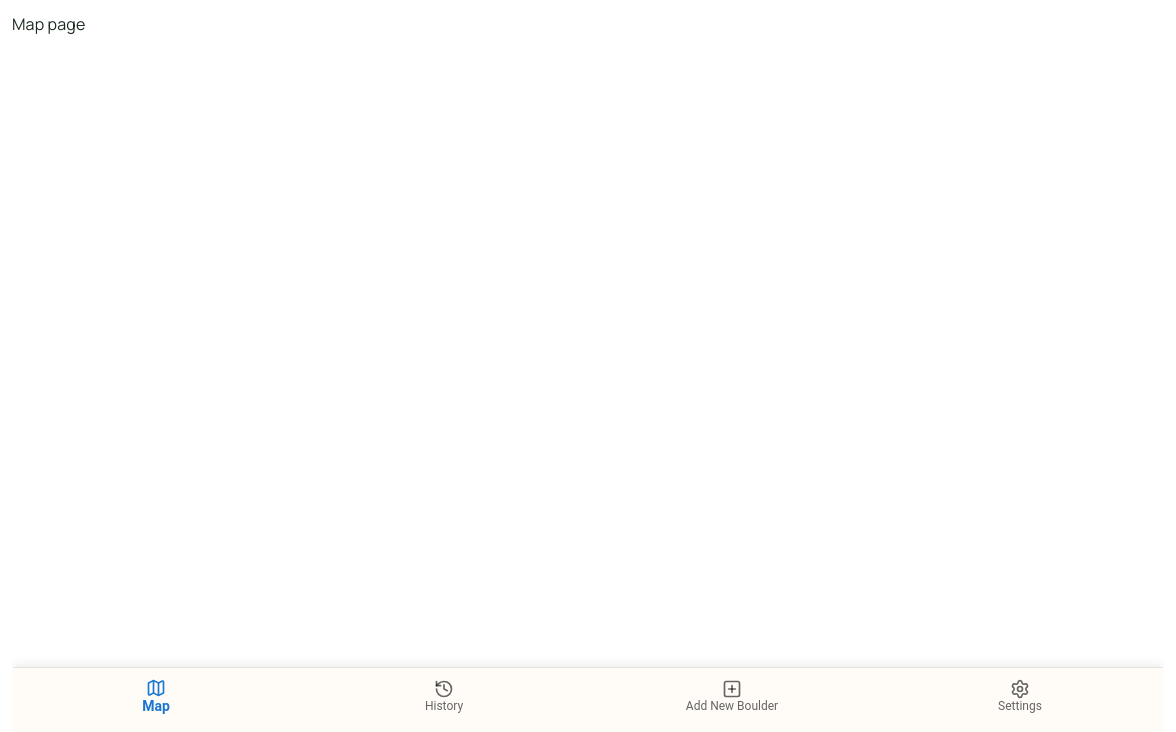
Scenario: MobileBottomNav › should navigate to the selected route when an item is clicked
Expected: the text "Map page" is shown, [12,13,85,35]
What coordinates should you click on to do the following:
click the button "History"
I would click on:
 (444, 696)
Its box is [300,668,588,724].
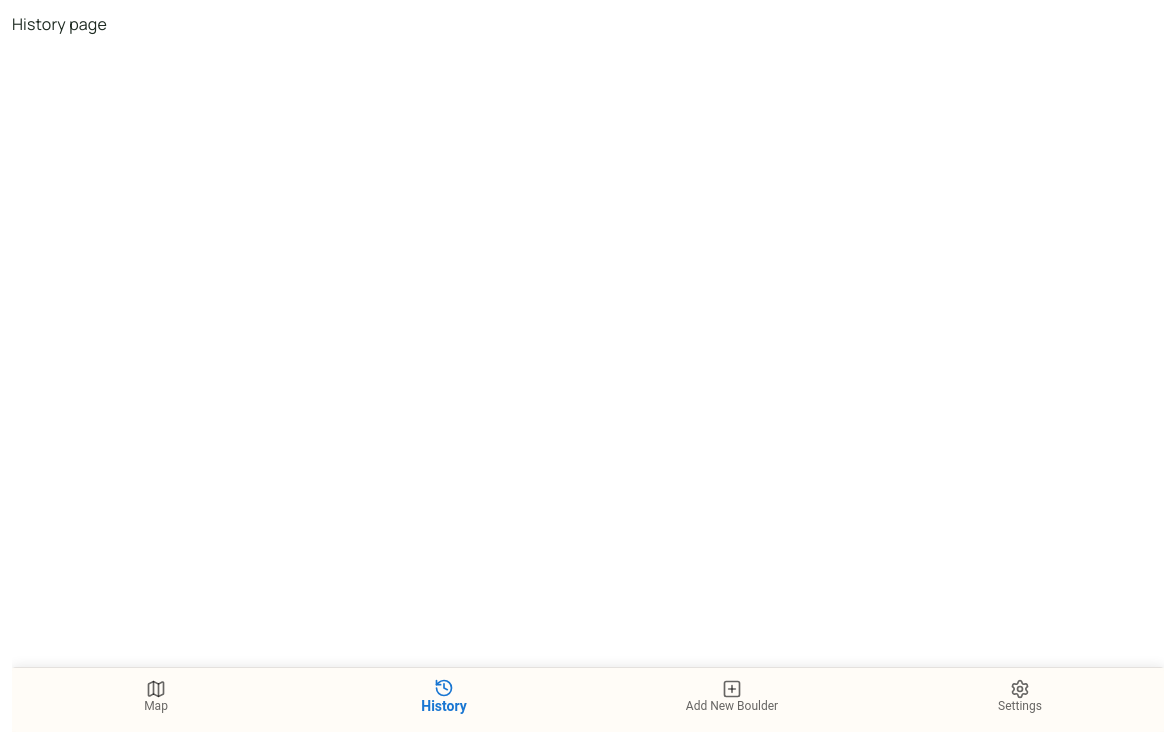
Expected: the text "History page" is shown, [12,13,107,35]
